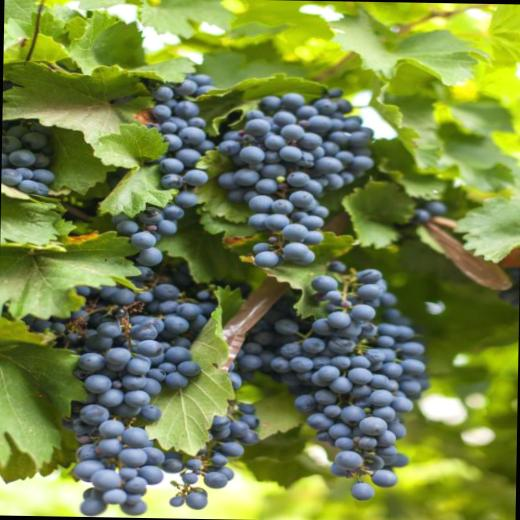Orange: (10, 266, 276, 520), (267, 266, 434, 501), (217, 84, 376, 269), (109, 71, 216, 266), (2, 119, 56, 196)
